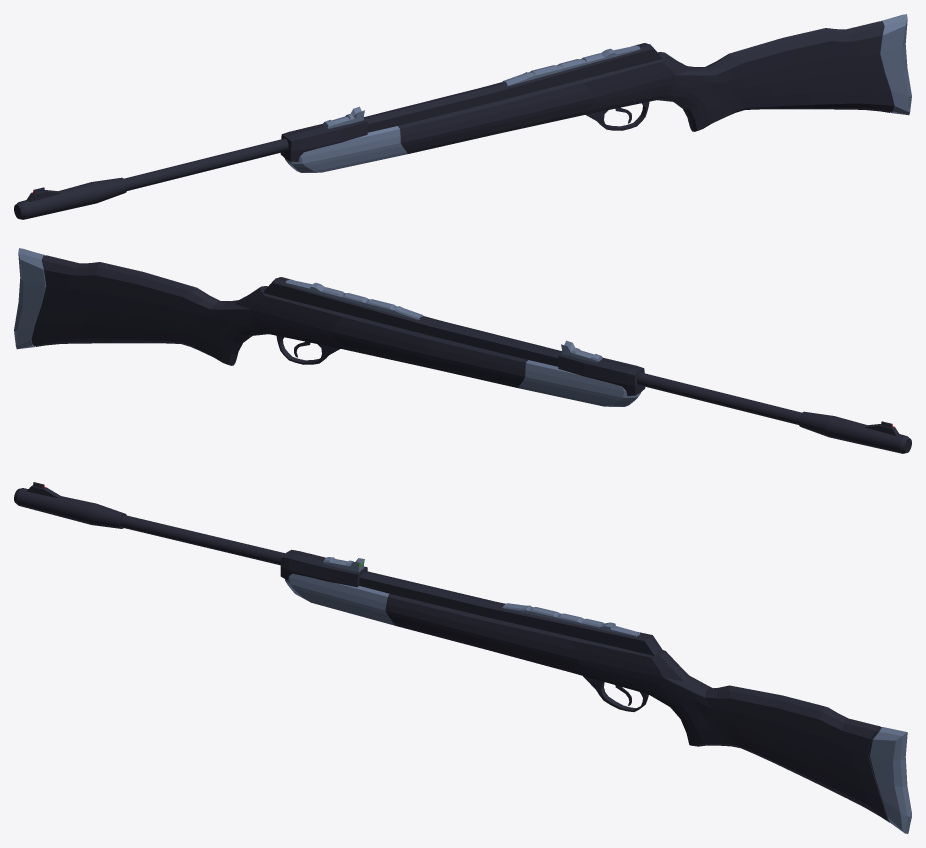
Rendered from scene_rh6KRpl5DW.glb.
The picture shows the model from 3 angles, top to bottom: view 1: azimuth 30°, elevation 25°; view 2: azimuth 150°, elevation 25°; view 3: azimuth 330°, elevation 25°; orthographic projection.
Parts seen in each view (by area): view 1: Cube_Cube_Material, Cube_Cube_Material.001; view 2: Cube_Cube_Material, Cube_Cube_Material.001; view 3: Cube_Cube_Material, Cube_Cube_Material.001.
Boxes of the visible parts, x1,y1,x2,y2 form: Cube_Cube_Material: [14, 21, 894, 219]; Cube_Cube_Material.001: [285, 14, 911, 172]; Cube_Cube_Material: [31, 255, 911, 453]; Cube_Cube_Material.001: [14, 248, 640, 406]; Cube_Cube_Material: [14, 482, 889, 822]; Cube_Cube_Material.001: [285, 557, 911, 833].
Bounding box in the file's own units: 20.32 × 3.04 × 0.6593.
